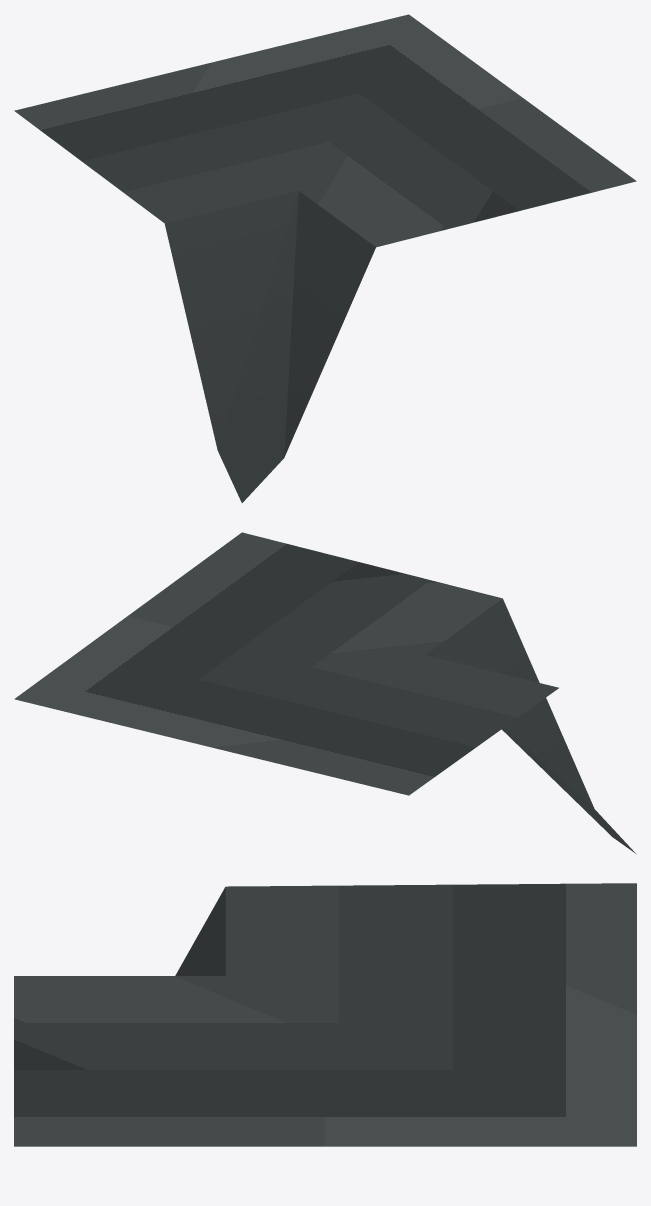
The picture shows the model from 3 angles, top to bottom: view 1: azimuth 30°, elevation 25°; view 2: azimuth 150°, elevation 25°; view 3: azimuth 270°, elevation 25°; orthographic projection. The views are drawn at different scales.
Bounding box in the file's own units: 0.5 × 0.2732 × 0.5.
Materials: 1 (1 with a texture image).
